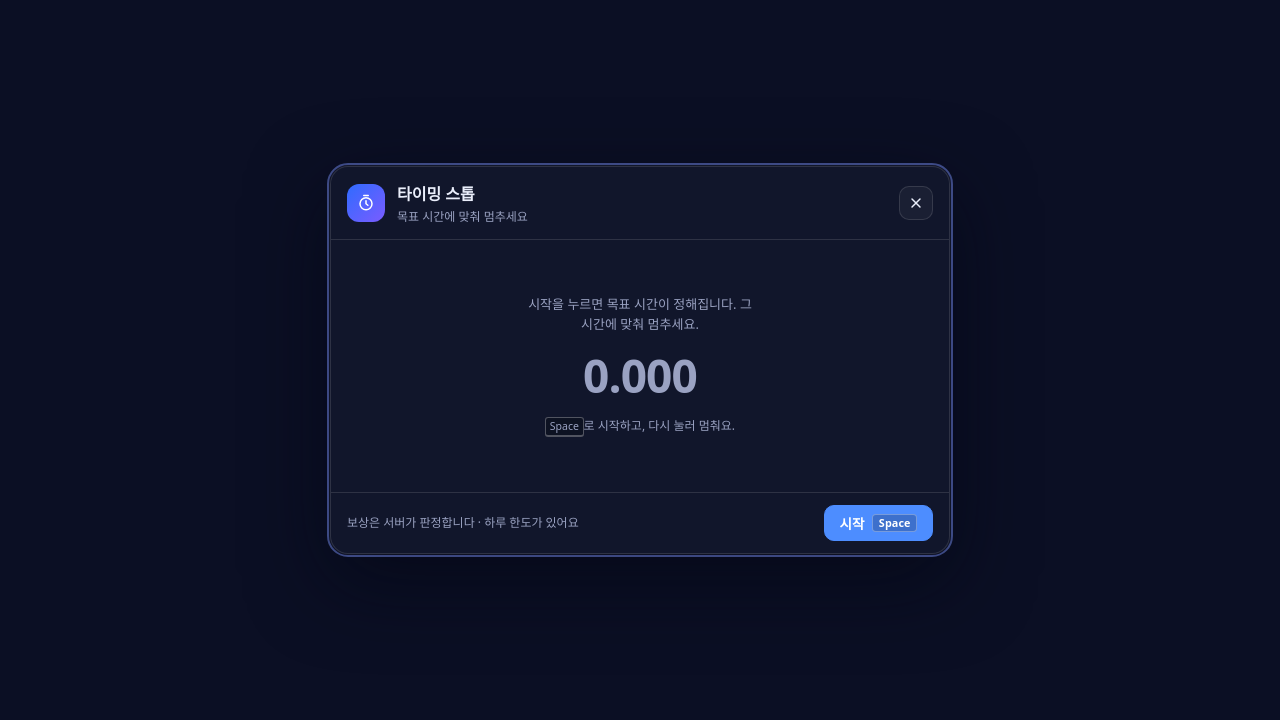
it: 세션 발급과 진행 › 시작을 눌러야 발급하고, 발급되면 대기 없이 바로 달린다
Click the button "시작 Space" at point(878, 523), box x1=824 y1=505 x2=933 y2=541
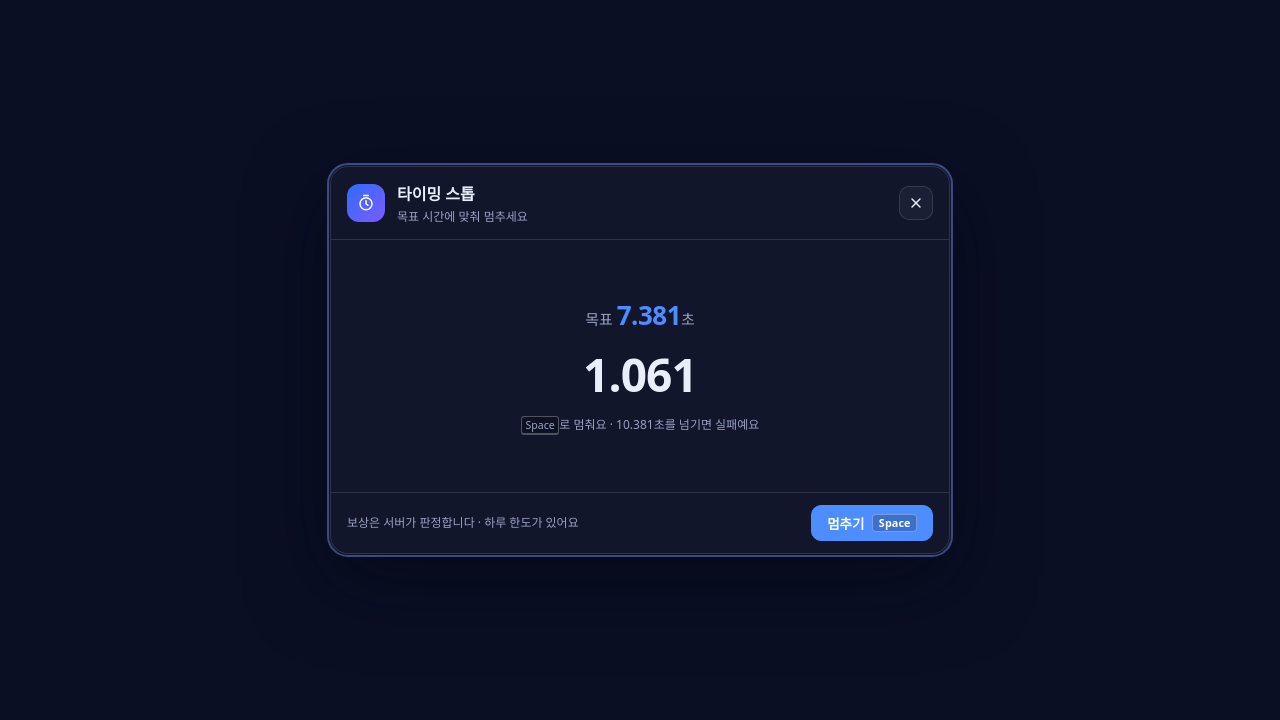
Result: the button "멈추기 Space" is shown at x1=811 y1=505 x2=933 y2=541
Result: the text "시작" is gone
